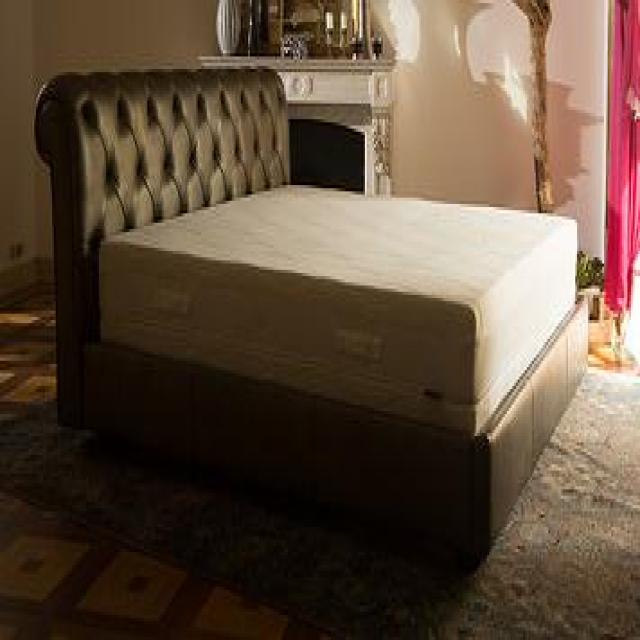bed: (35, 63, 590, 585)
